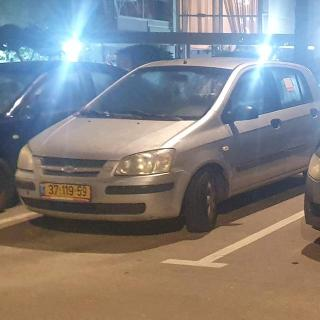LicensePlate: (45, 183, 91, 198)
